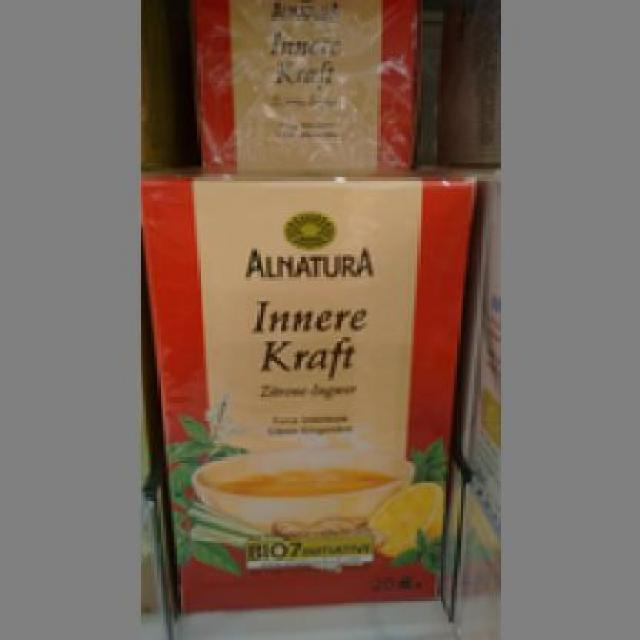Tea: (137, 166, 472, 612)
